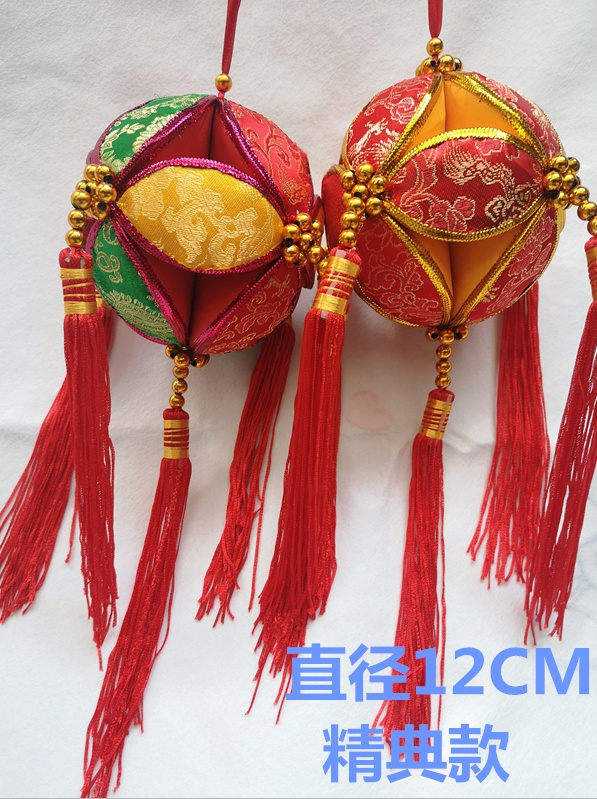xiuqiu: (79, 93, 322, 359), (323, 71, 566, 337)
